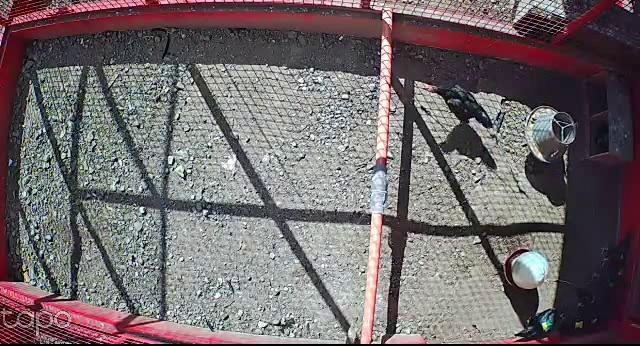Chicken: (423, 78, 494, 131), (513, 306, 573, 339)
Saddle_Color_Yellow: (575, 320, 584, 330)
Saddle_Color_YellowGreen: (540, 319, 553, 330)
